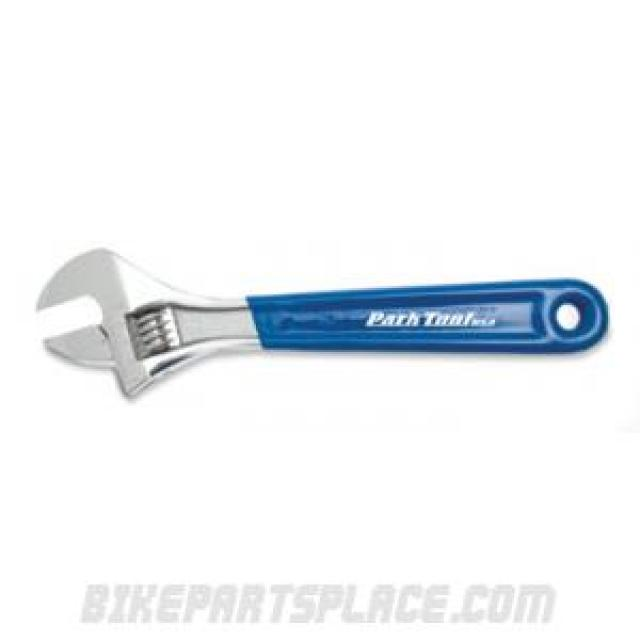wrench: (12, 218, 640, 436)
